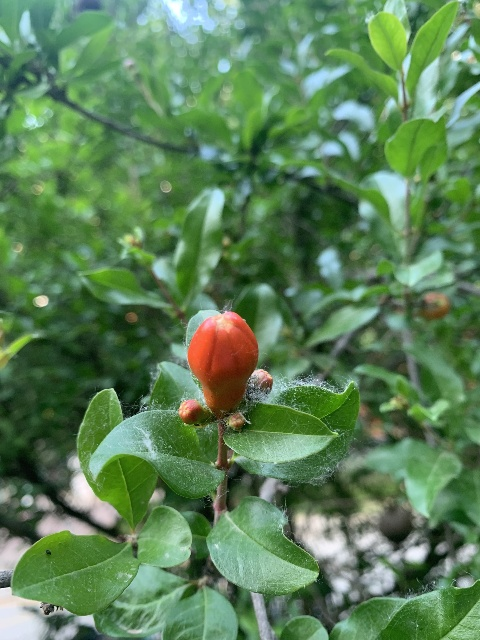bud: (187, 310, 258, 415), (178, 399, 209, 424)
